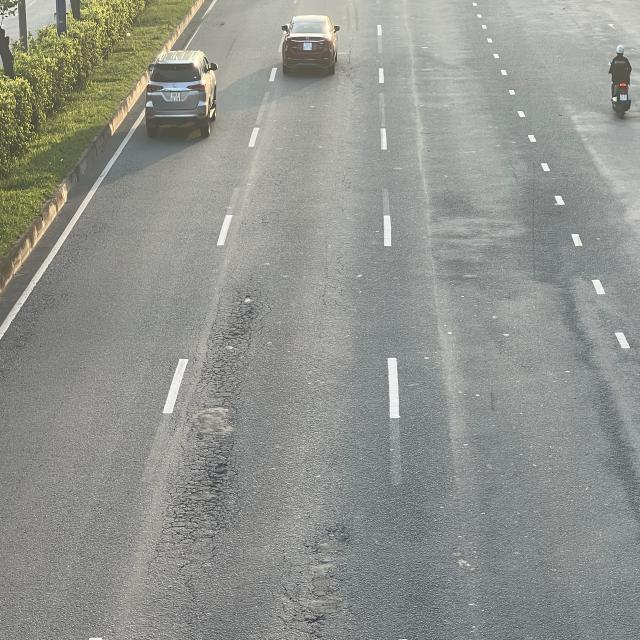car: (146, 49, 220, 139), (282, 13, 342, 73)
